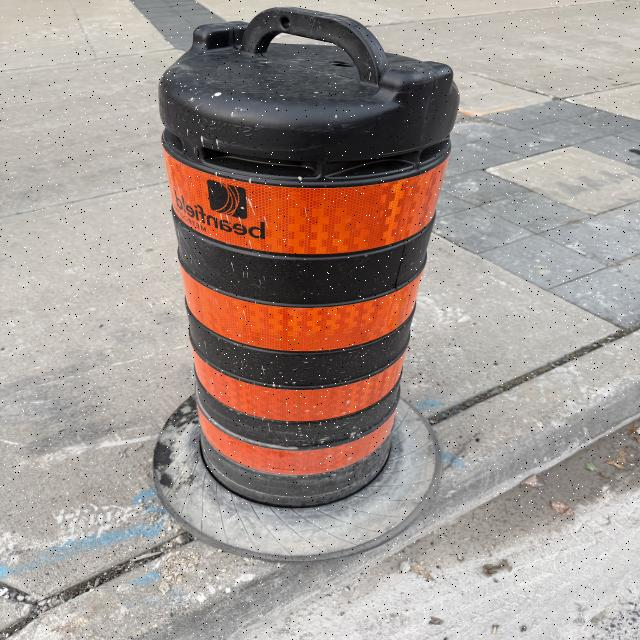Teraffic Barrel: (159, 8, 458, 508)
